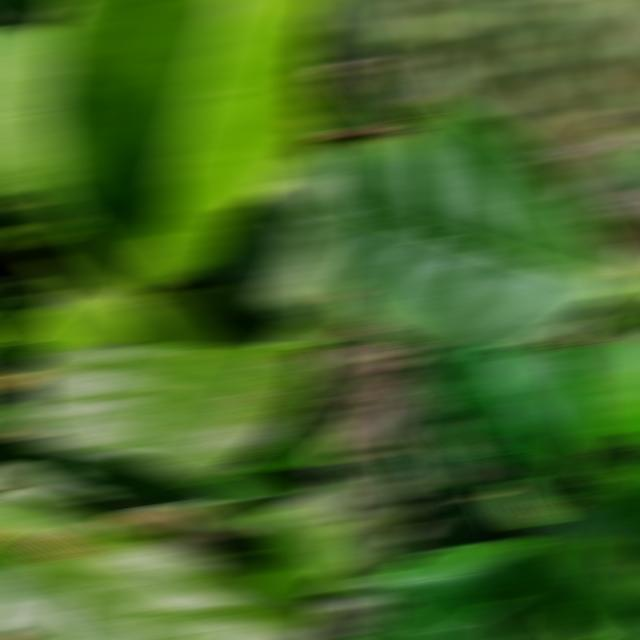Leaf: (41, 1, 335, 299), (316, 96, 634, 344), (22, 346, 320, 517), (0, 489, 336, 639), (422, 346, 587, 480), (210, 156, 336, 327), (0, 27, 81, 232), (363, 540, 534, 629), (229, 365, 336, 490), (237, 486, 336, 602), (533, 533, 640, 634), (412, 482, 521, 554), (316, 59, 410, 141), (570, 346, 640, 448), (5, 290, 133, 344), (332, 508, 402, 605), (392, 401, 457, 481), (403, 442, 470, 518), (140, 296, 229, 344), (232, 307, 336, 344), (327, 461, 385, 515), (495, 481, 559, 526), (589, 460, 636, 521)
